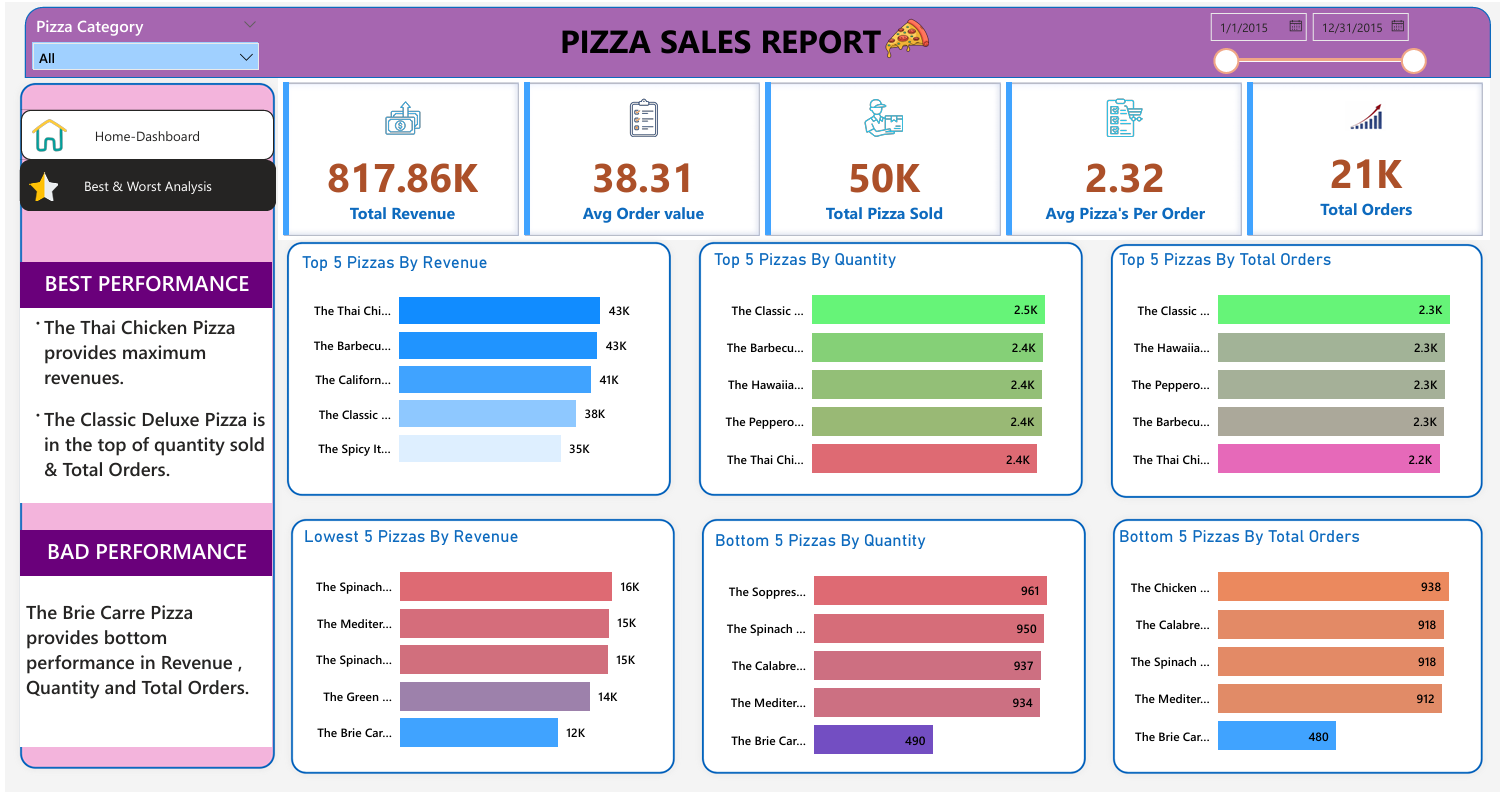

What the dashboard file says about the page in this screenshot:
{"tool":"powerbi","page":{"name":"Best & Worst Analysis ","canvas":[1500,820],"ordinal":1},"visuals":[{"type":"shape","box":[5.6,72.4,271.6,701.9],"z":0},{"type":"cardVisual","fields":{"Data":["Pizza_sold.Total Revenue","Pizza_sold.Avg Order value","Pizza_sold.Total Pizza Sold","Pizza_sold.Avg Pizza's Per Order","Pizza_sold.Total Orders"]},"box":[273,75.2,1211.6,162.9],"z":1000},{"type":"shape","box":[19.5,4.2,1465.1,71],"z":2000},{"type":"textbox","box":[548.7,9.7,363.5,62.7],"z":3000},{"type":"shape","box":[273,231.2,399.7,270.2],"z":4000},{"type":"textbox","box":[15,306,252,195],"z":5000},{"type":"textbox","box":[15.3,527.8,252.1,46],"z":6000},{"type":"textbox","box":[15,574,252,171],"z":7000},{"type":"slicer","fields":{"Values":["Pizza_sold.pizza_category"]},"box":[16.7,7,246.5,68.2],"z":8000},{"type":"slicer","fields":{"Values":["Pizza_sold.order_date"]},"box":[1192.1,0,236.8,75.2],"z":9000},{"type":"shape","box":[685,231.2,400,270],"z":10000},{"type":"shape","box":[1097.4,232.6,387.2,270.2],"z":11000},{"type":"shape","box":[277.1,508.3,399.7,270.2],"z":12000},{"type":"shape","box":[688,508.3,399.7,270.2],"z":13000},{"type":"shape","box":[1098.8,508.3,385.8,270.2],"z":14000},{"type":"barChart","title":"Top 5 Pizzas By Revenue","fields":{"Category":["Pizza_sold.pizza_name"],"Y":["Pizza_sold.Total Revenue"]},"box":[291.1,249.3,358.6,230],"z":15000},{"type":"barChart","title":"Lowest 5 Pizzas By Revenue","fields":{"Category":["Pizza_sold.pizza_name"],"Y":["Pizza_sold.Total Revenue"]},"box":[292.7,522.6,358.6,242.8],"z":16000},{"type":"barChart","title":"Top 5 Pizzas By Quantity","fields":{"Category":["Pizza_sold.pizza_name"],"Y":["Pizza_sold.Total Pizza Sold"]},"box":[702.7,246,366.6,246],"z":17000},{"type":"barChart","title":"Bottom 5 Pizzas By Quantity","fields":{"Category":["Pizza_sold.pizza_name"],"Y":["Pizza_sold.Total Pizza Sold"]},"box":[704.3,527.4,366.6,246],"z":18000},{"type":"barChart","title":"Top 5 Pizzas By Total Orders","fields":{"Category":["Pizza_sold.pizza_name"],"Y":["Pizza_sold.Total Orders"]},"box":[1108,246,366.6,246],"z":19000},{"type":"barChart","title":"Bottom 5 Pizzas By Total Orders","fields":{"Category":["Pizza_sold.pizza_name"],"Y":["Pizza_sold.Total Orders"]},"box":[1108,522.6,366.6,246],"z":20000},{"type":"pageNavigator","box":[13.9,157.4,256.3,50.1],"z":21000},{"type":"pageNavigator","box":[15,107,253,50],"z":22000},{"type":"textbox","box":[15,260,252,46],"z":23000},{"type":"image","box":[870.4,8.4,62.7,54.3],"z":24000},{"type":"image","box":[15,95,57,74],"z":25000},{"type":"image","box":[19.5,160.2,39,47.4],"z":26000}]}

Visuals, with their boxes on the page's 1500x820 design canvas (x1, y1, x2, y2). These are canvas units, not pixel positions in the 1500x792 screenshot, which may show the page scaled, cropped or inside an application window:
shape: left=6, top=72, right=277, bottom=774
cardVisual - Pizza_sold.Total Revenue x Pizza_sold.Avg Order value: left=273, top=75, right=1485, bottom=238
shape: left=20, top=4, right=1485, bottom=75
textbox: left=549, top=10, right=912, bottom=72
shape: left=273, top=231, right=673, bottom=501
textbox: left=15, top=306, right=267, bottom=501
textbox: left=15, top=528, right=267, bottom=574
textbox: left=15, top=574, right=267, bottom=745
slicer - Pizza_sold.pizza_category: left=17, top=7, right=263, bottom=75
slicer - Pizza_sold.order_date: left=1192, top=0, right=1429, bottom=75
shape: left=685, top=231, right=1085, bottom=501
shape: left=1097, top=233, right=1485, bottom=503
shape: left=277, top=508, right=677, bottom=778
shape: left=688, top=508, right=1088, bottom=778
shape: left=1099, top=508, right=1485, bottom=778
"Top 5 Pizzas By Revenue" barChart: left=291, top=249, right=650, bottom=479
"Lowest 5 Pizzas By Revenue" barChart: left=293, top=523, right=651, bottom=765
"Top 5 Pizzas By Quantity" barChart: left=703, top=246, right=1069, bottom=492
"Bottom 5 Pizzas By Quantity" barChart: left=704, top=527, right=1071, bottom=773
"Top 5 Pizzas By Total Orders" barChart: left=1108, top=246, right=1475, bottom=492
"Bottom 5 Pizzas By Total Orders" barChart: left=1108, top=523, right=1475, bottom=769
pageNavigator: left=14, top=157, right=270, bottom=208
pageNavigator: left=15, top=107, right=268, bottom=157
textbox: left=15, top=260, right=267, bottom=306
image: left=870, top=8, right=933, bottom=63
image: left=15, top=95, right=72, bottom=169
image: left=20, top=160, right=58, bottom=208
